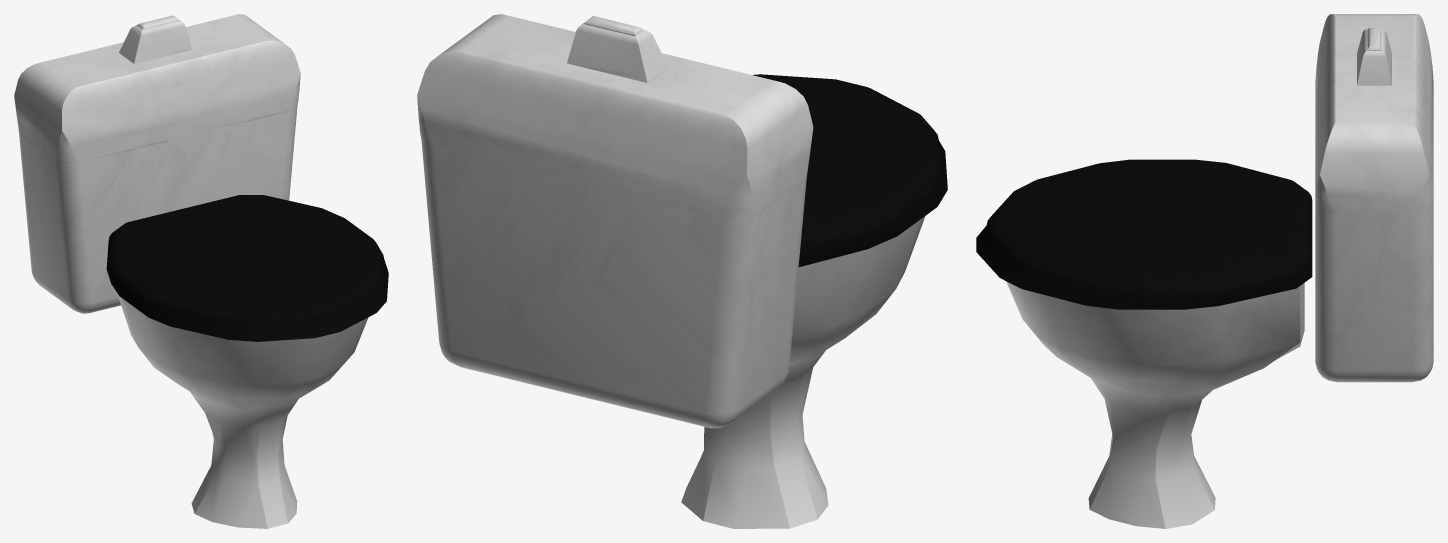
3 views of the same model, side by side, from view 1: azimuth 30°, elevation 25°; view 2: azimuth 150°, elevation 25°; view 3: azimuth 270°, elevation 25° (orthographic). The views are drawn at different scales.
Parts seen in each view (by area): view 1: Plano; view 2: Plano; view 3: Plano.
Boxes of the visible parts, x1,y1,x2,y2 form: Plano: (14, 14, 388, 528); Plano: (417, 14, 947, 528); Plano: (976, 14, 1433, 528).
Bounding box in the file's own units: 0.6078 × 0.9893 × 0.8717.
1 material, 1 textured.
